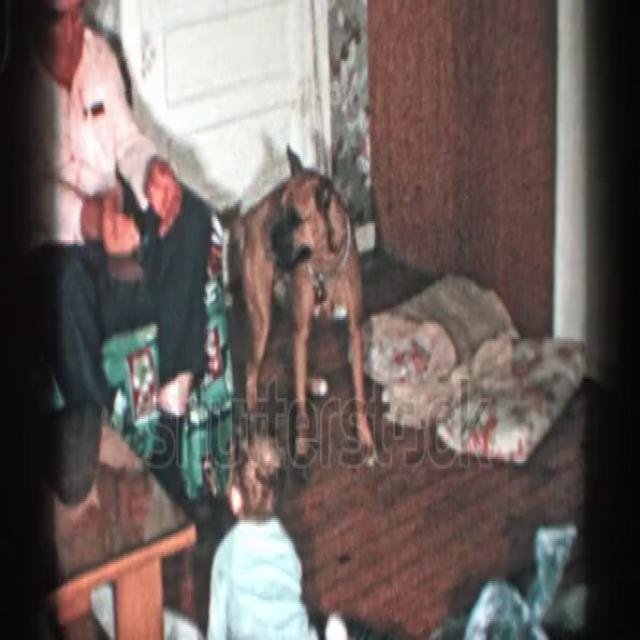normal_animals: (229, 141, 380, 472)
